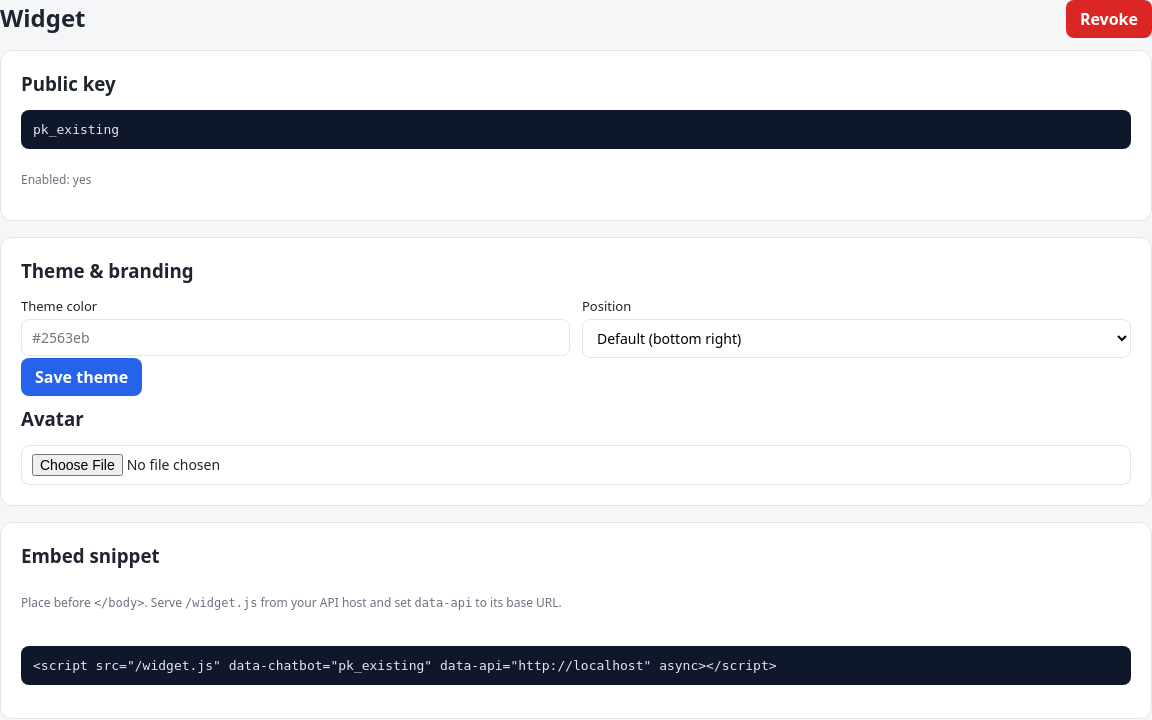
it: WidgetConfigPage › shows an error when the theme save fails
Expected: the text "pk_existing" is shown, [21,110,1131,149]
Click the button "Save theme": (82, 377) [21,358,142,396]
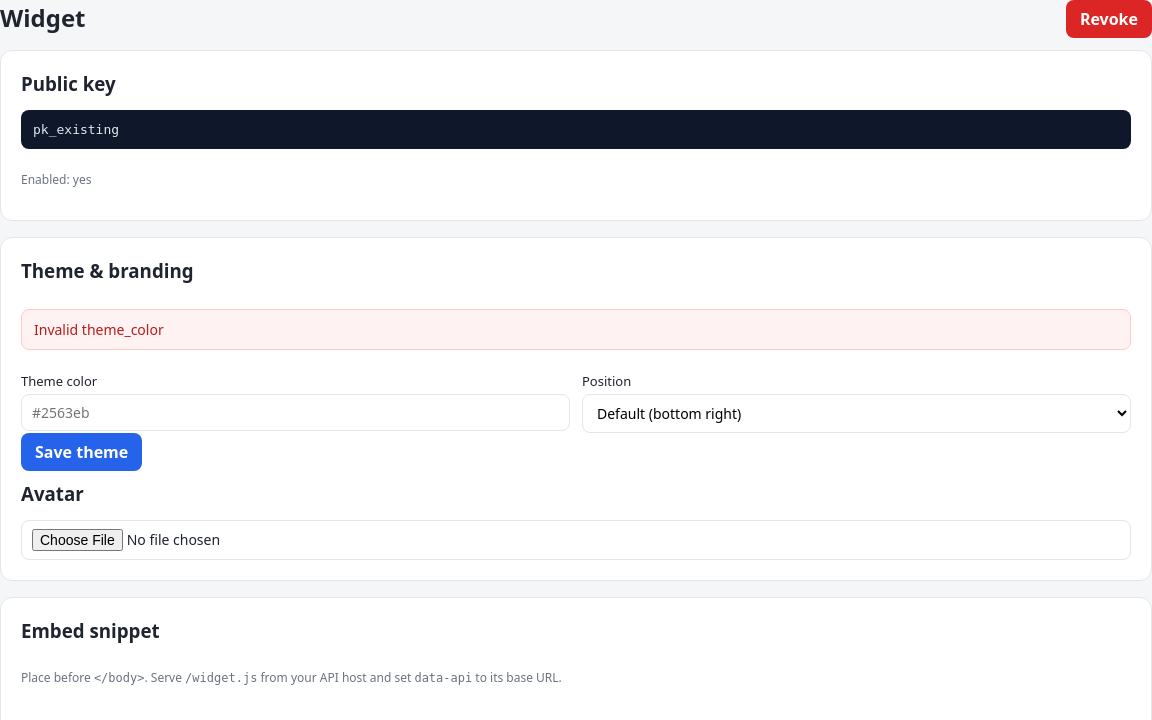
Now the text "Invalid theme_color" is shown, box [21,309,1131,350]
